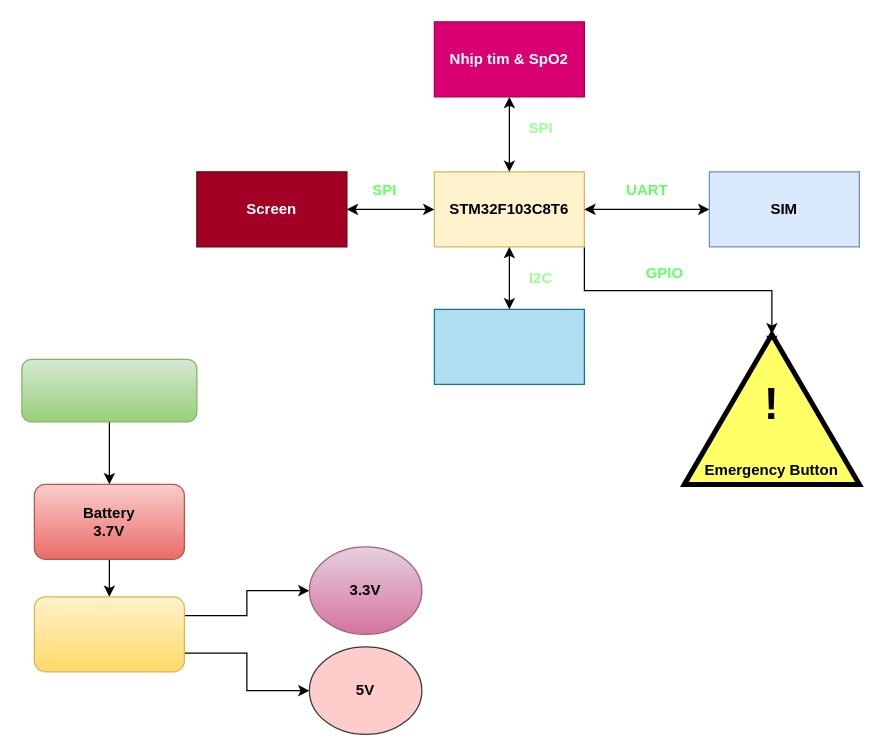
The diagram is 884 pixels wide and 756 high, and some of its shapes have lost their labels. Each missing label, with the box of its shape:
BUCK & BOOST: (33, 596, 184, 672)
Charger(USB TypeC): (21, 358, 197, 422)
MPU-6050 GY-512: (433, 308, 584, 384)
